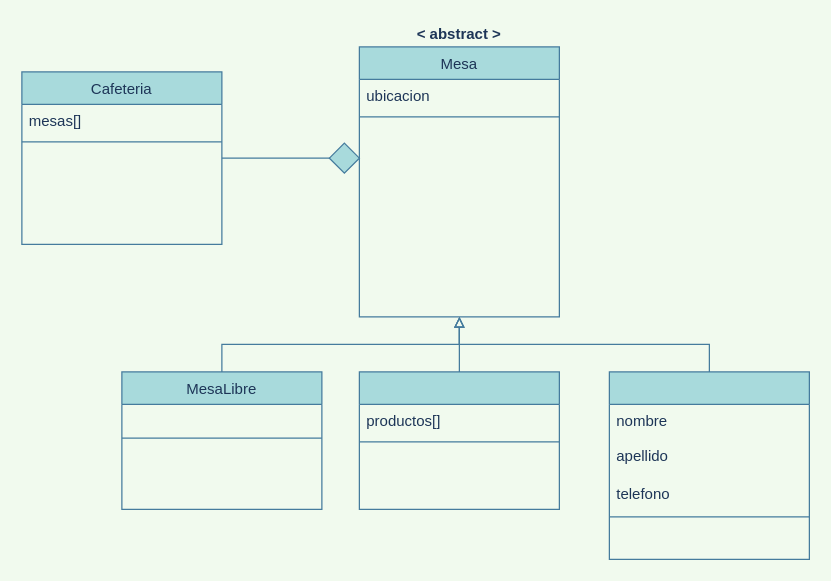
The diagram is 831 pixels wide and 581 high, and some of its shapes have lost their labels. The box of each missing label's shape, as (x1, y1, x2, y2) in pixels:
MesaOcupada: (358, 371, 559, 509)
MesaReservada: (608, 371, 809, 559)
